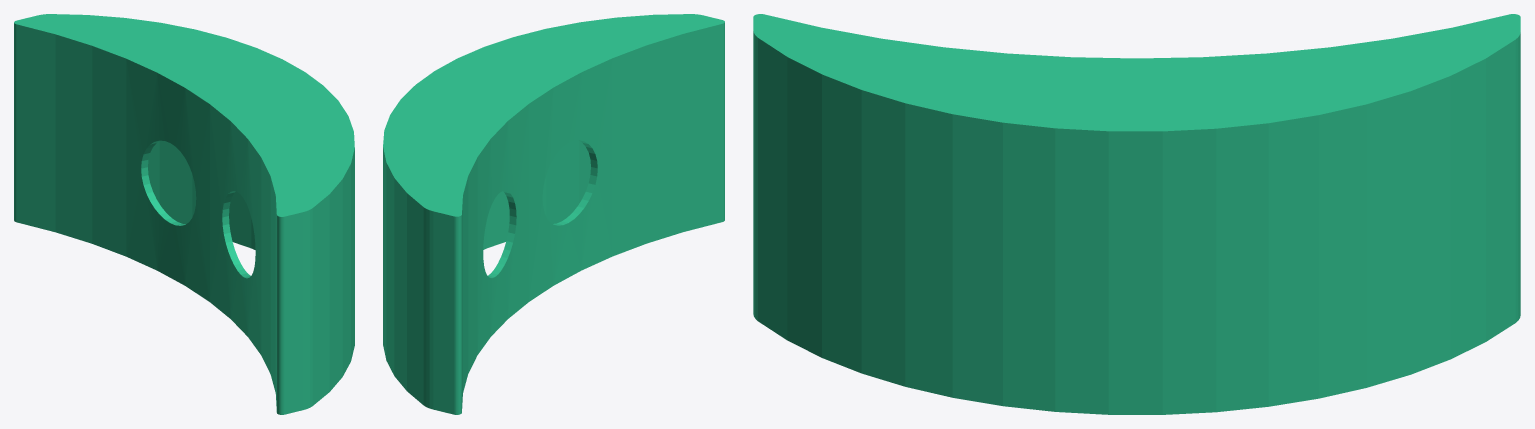
The model's file is SensorSuperior.glb.
3 views of the same model, side by side, from view 1: azimuth 30°, elevation 25°; view 2: azimuth 150°, elevation 25°; view 3: azimuth 270°, elevation 25° (orthographic). The views are drawn at different scales.
Visible parts, largest first — view 1: Mesh_0.002; view 2: Mesh_0.002; view 3: Mesh_0.002.
Part boxes in pixels (x1=…): Mesh_0.002: x1=14, y1=14, x2=354, y2=414; Mesh_0.002: x1=383, y1=14, x2=724, y2=414; Mesh_0.002: x1=753, y1=14, x2=1520, y2=414.
Bounding box in the file's own units: 37.3 × 42 × 103.
